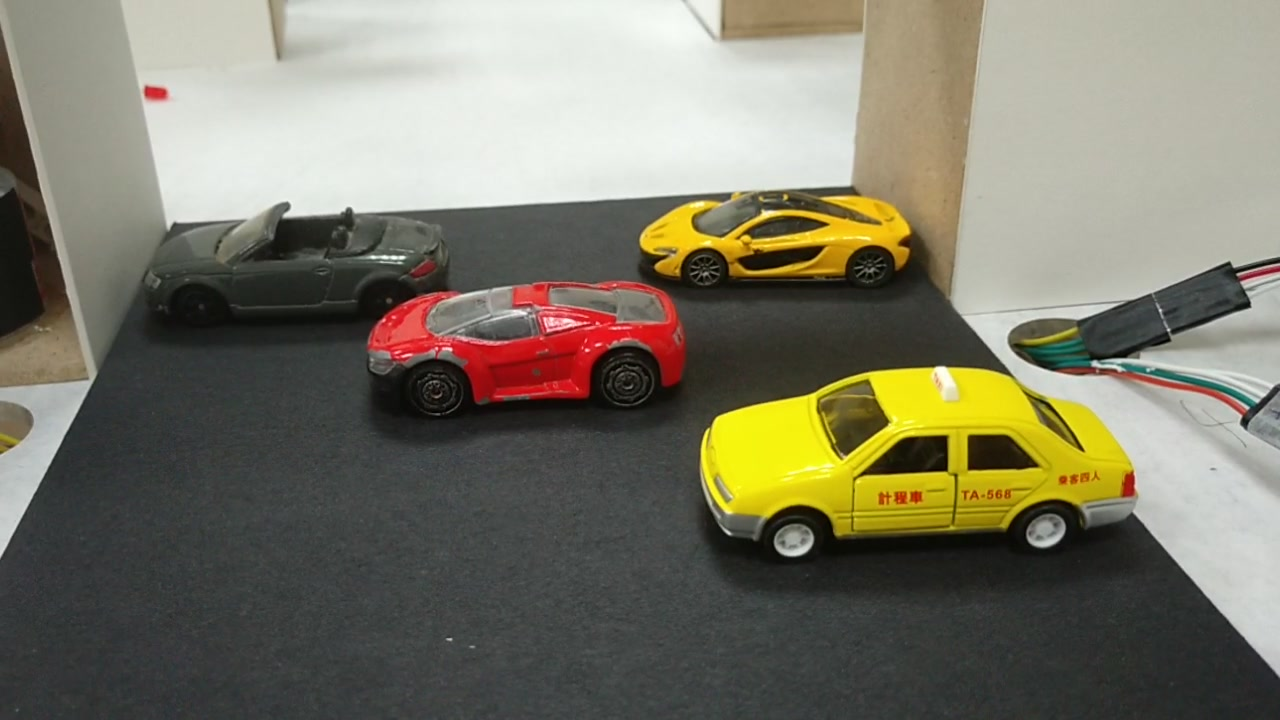car: (698, 364, 1135, 544), (368, 283, 688, 411), (143, 213, 451, 314), (634, 186, 911, 293)
